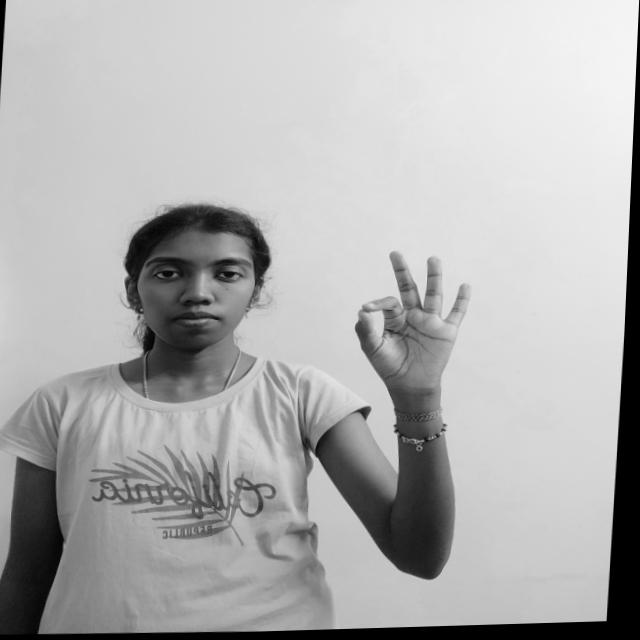Superb: (335, 244, 492, 409)
